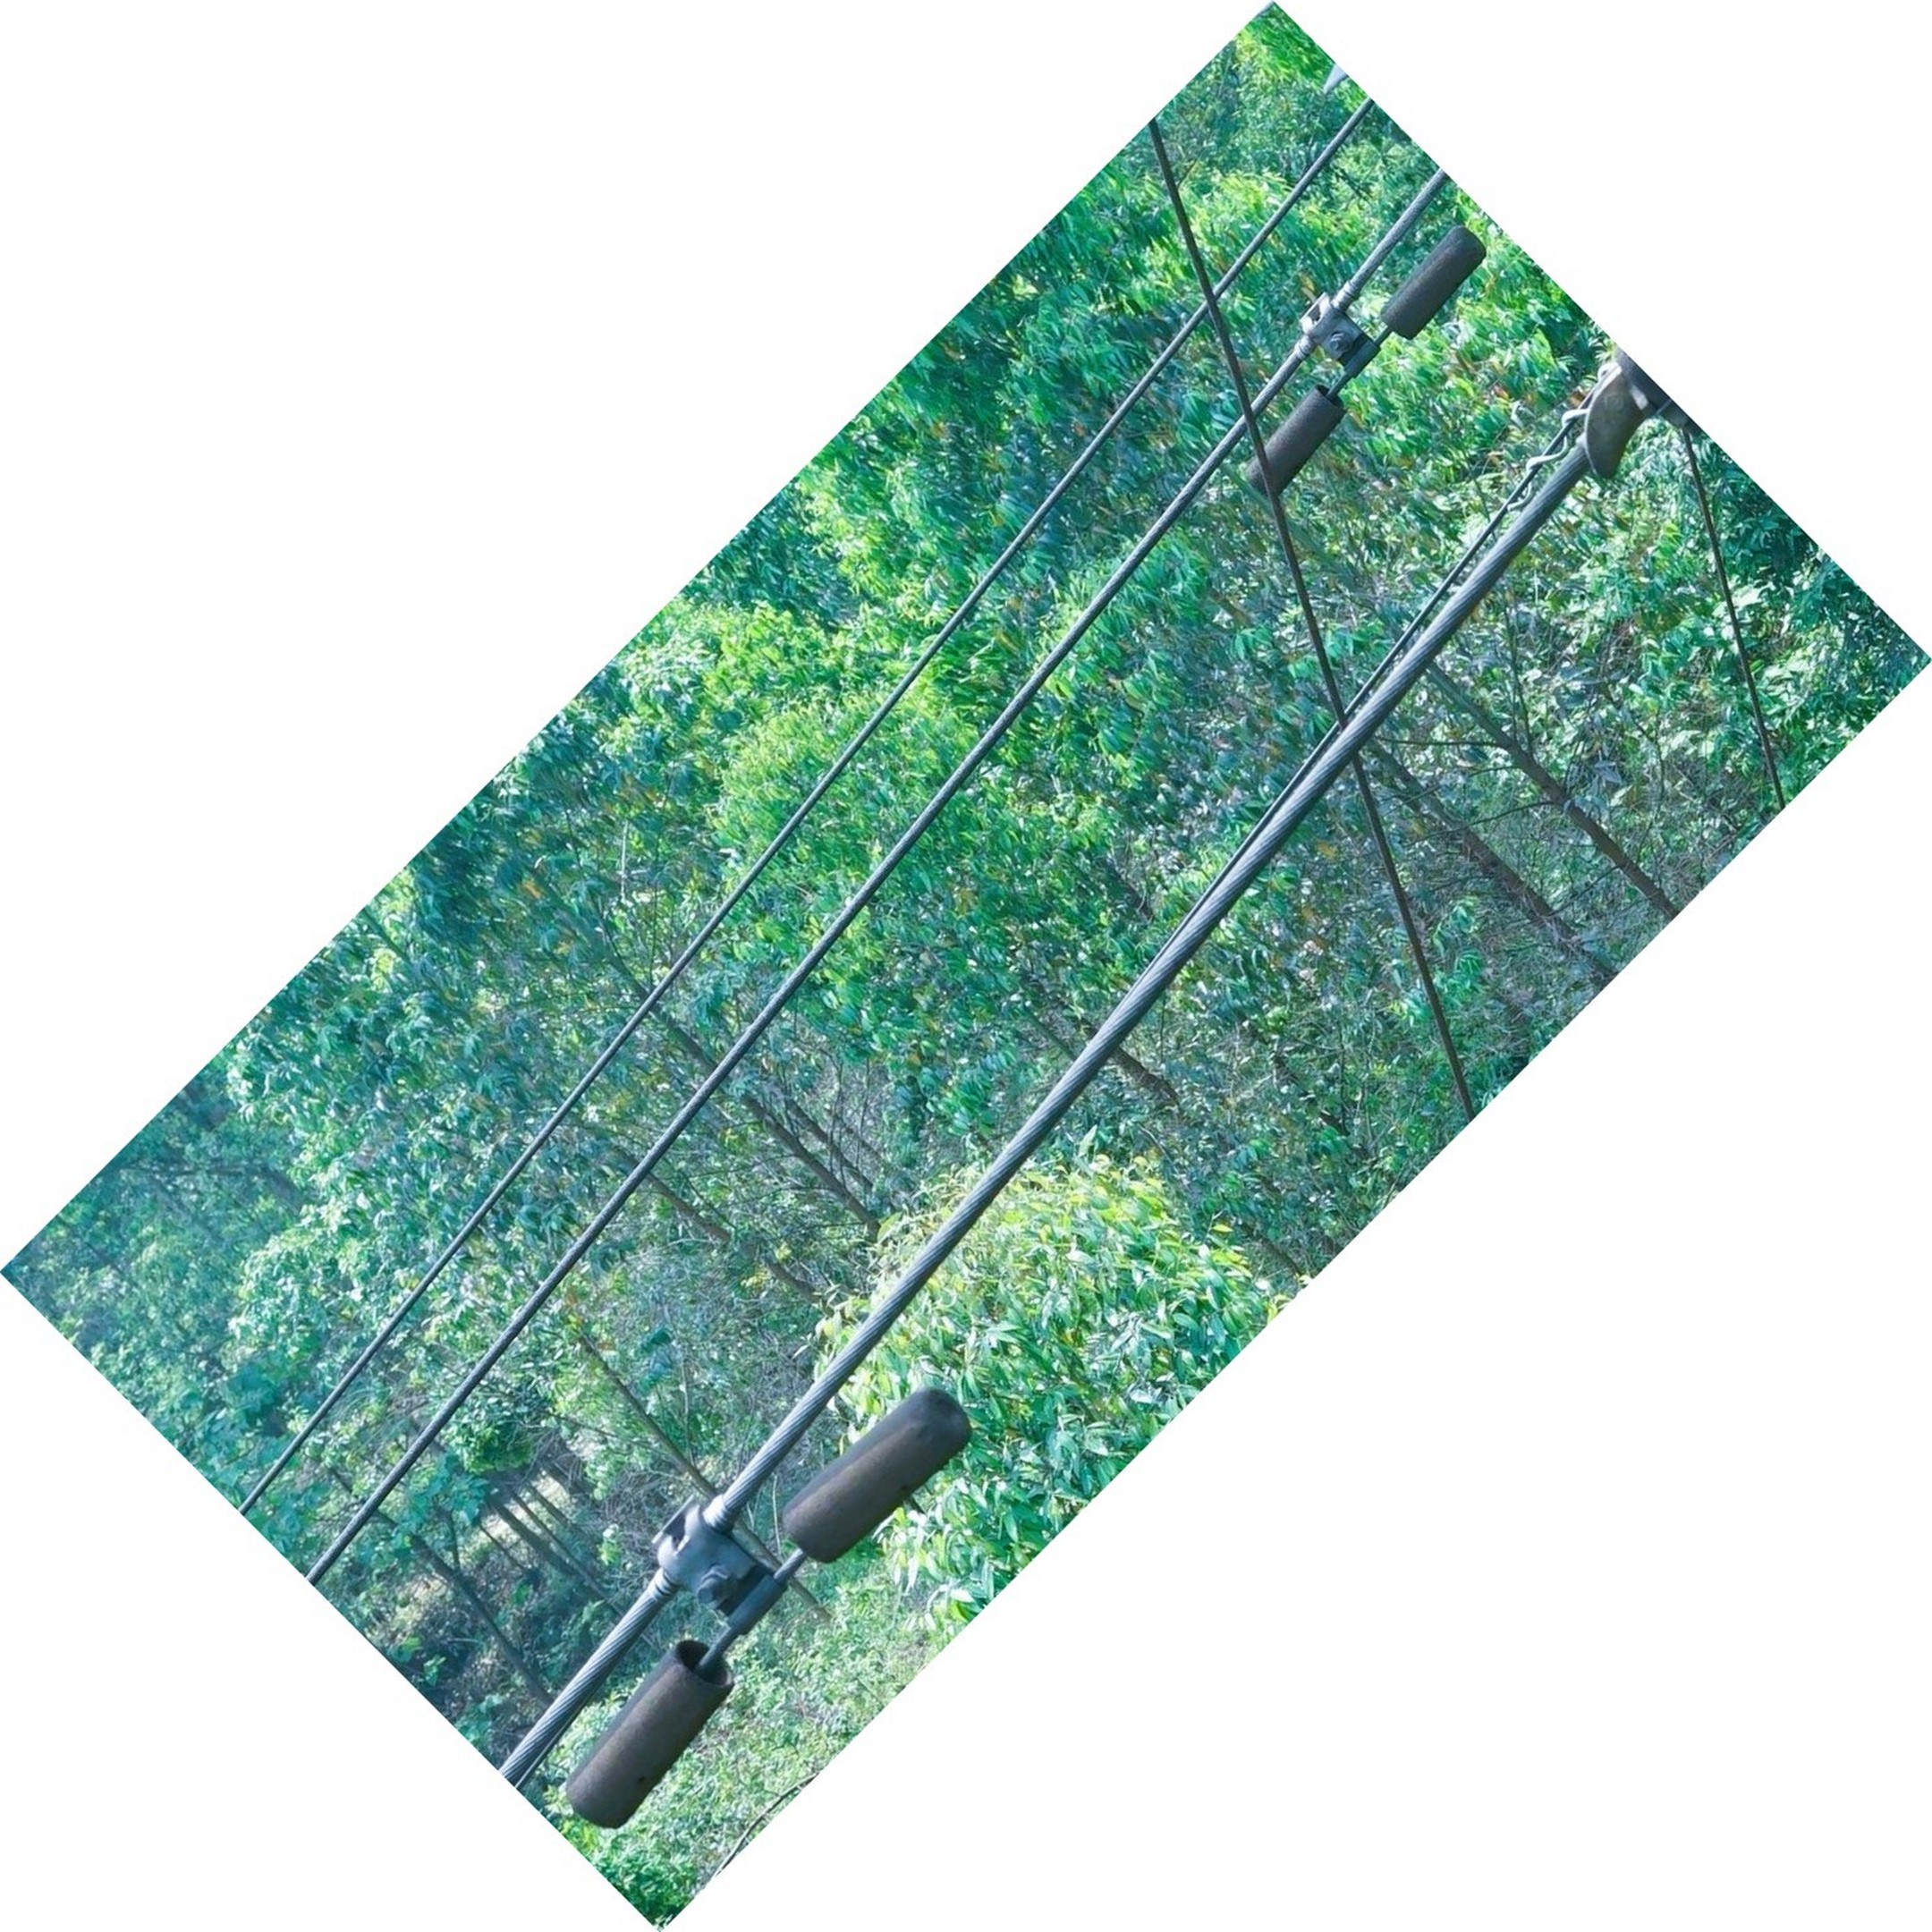Shockproof hammer: (531, 1348, 985, 1844), (1226, 214, 1506, 502)
